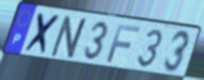3: (161, 28, 192, 77), (134, 28, 165, 69), (83, 20, 110, 62)
F: (104, 23, 142, 65)
N: (47, 15, 91, 62)
X: (22, 11, 64, 57)
